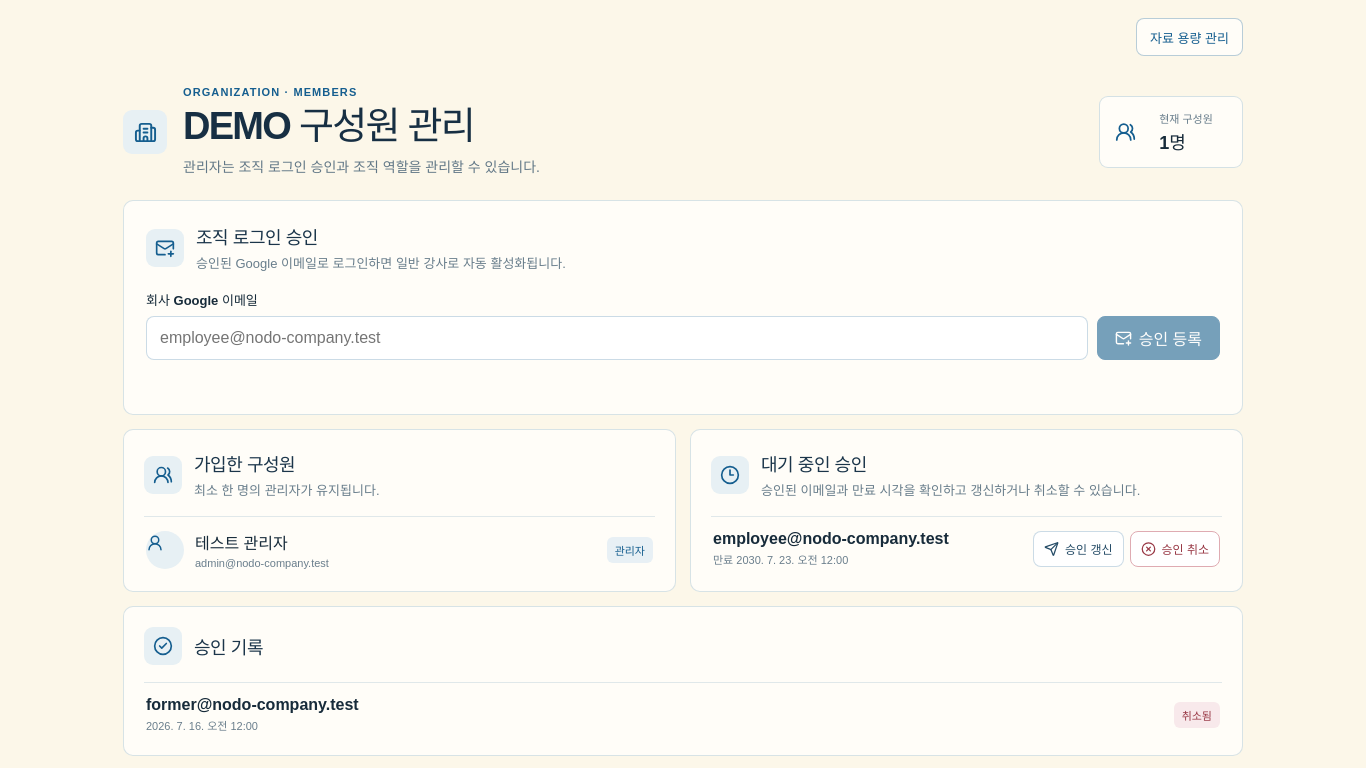
Test: 조직 구성원 관리 화면 › 승인 등록 서버 오류를 성공으로 오해하지 않게 안내한다
The image size is (1366, 768).
Expected: the heading "가입한 구성원" is shown, x1=194 y1=455 x2=295 y2=475
Type "new@nodo-company.test" into the field labelled "회사 Google 이메일". click: [617, 338]
box: x1=146 y1=316 x2=1088 y2=360
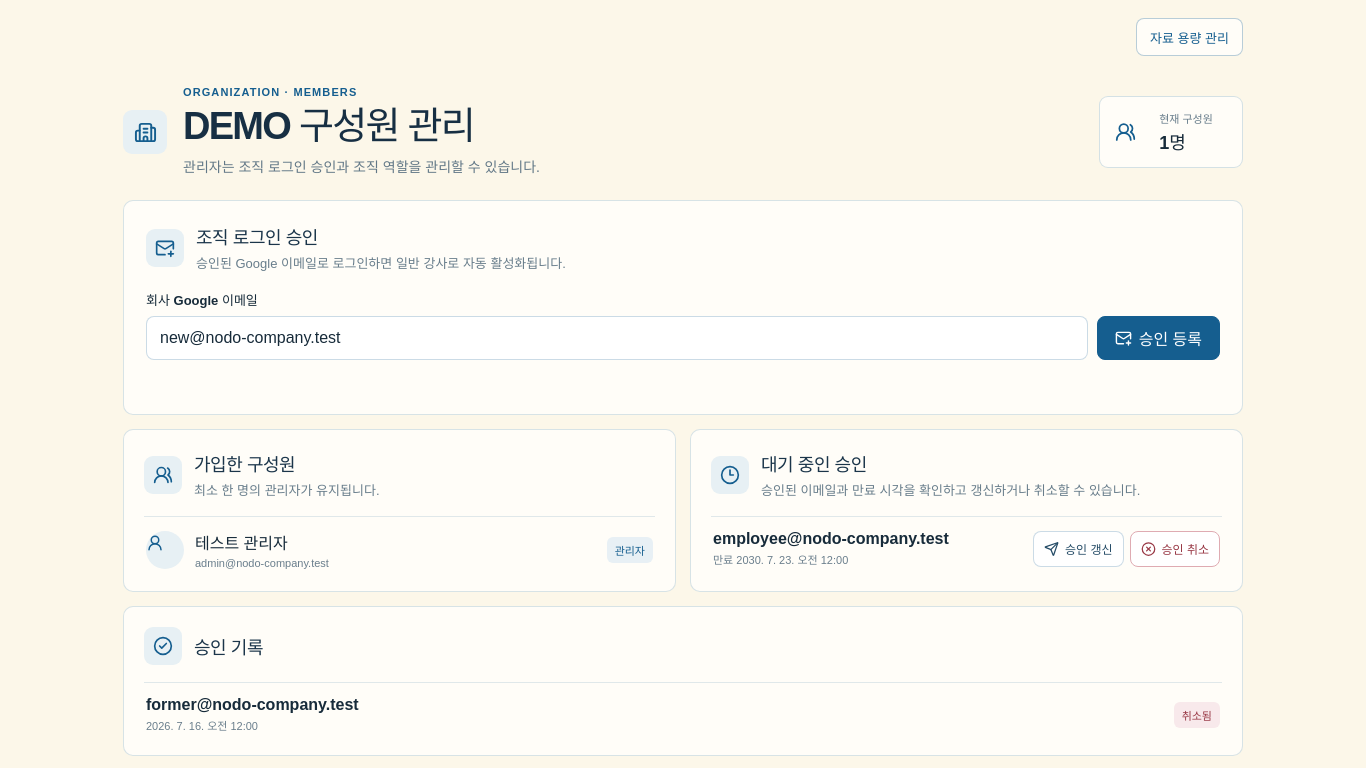
Click the button "승인 등록". click: [1158, 338]
box: x1=1097 y1=316 x2=1220 y2=360
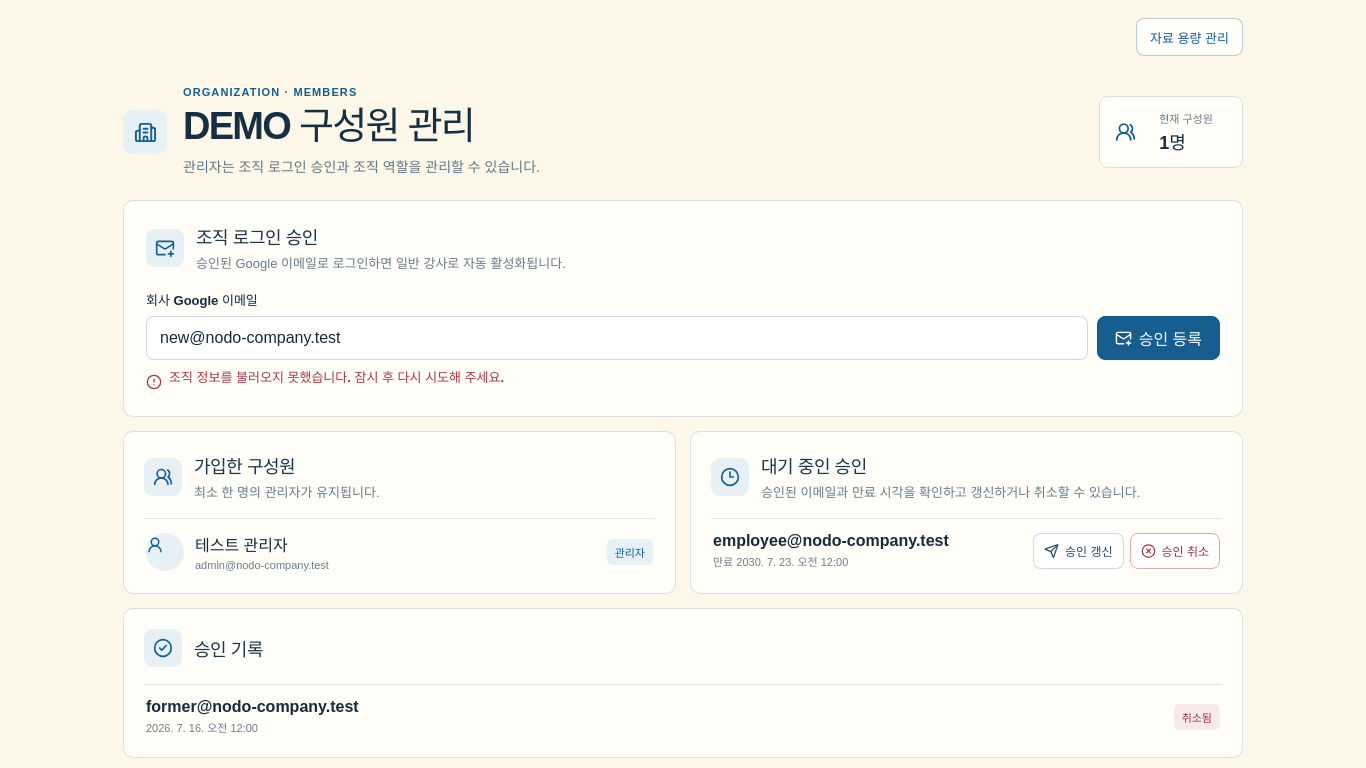
Expected: the message shows "조직 정보를 불러오지 못했습니다", x1=169 y1=370 x2=504 y2=385
